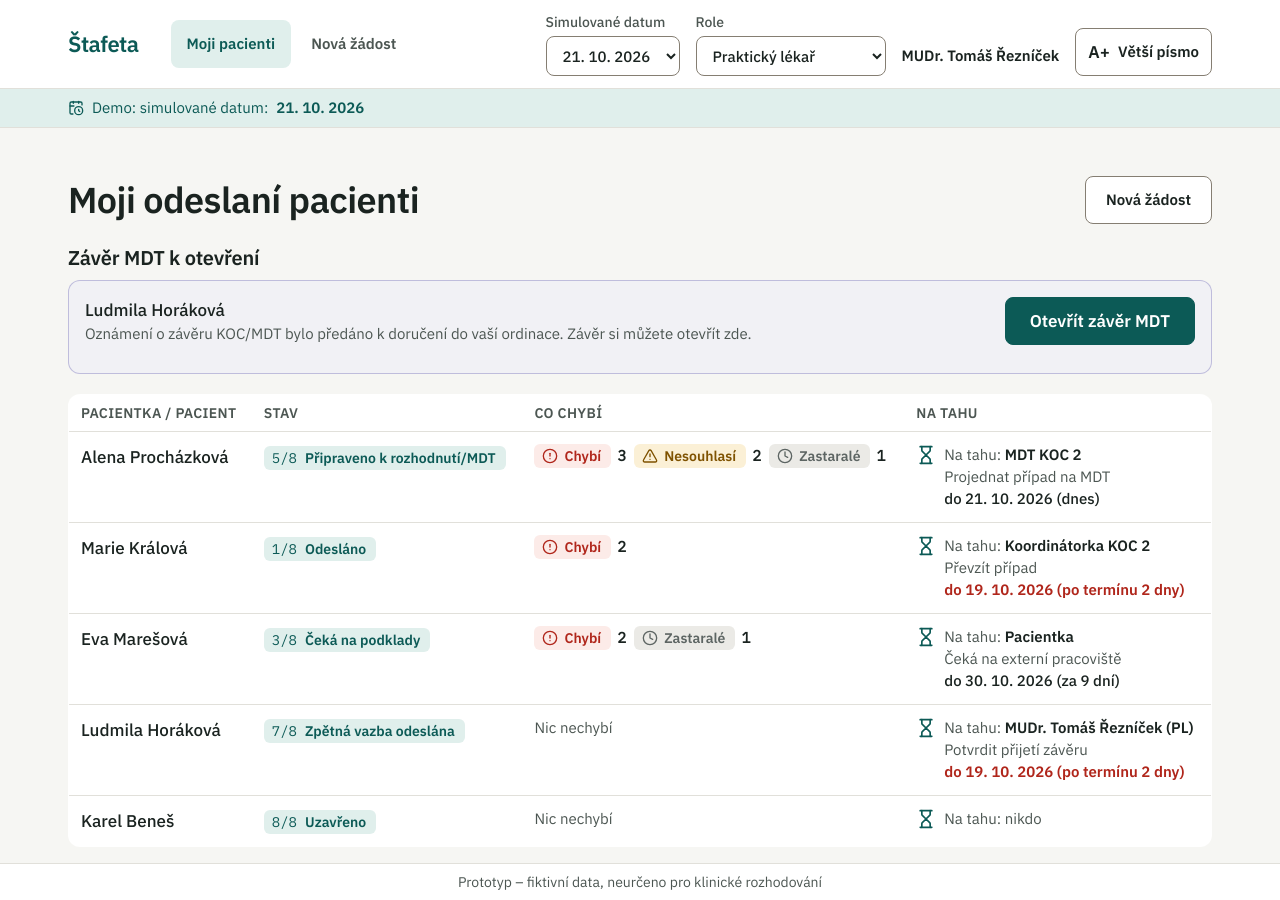
Test: GP portal, demo step 6 › does not record a receipt when the conclusion cannot be read, and offers a retry
Click the button with aria-label "Otevřít závěr MDT: Ludmila Horáková".
click(1100, 321)  # box [1005, 297, 1195, 345]
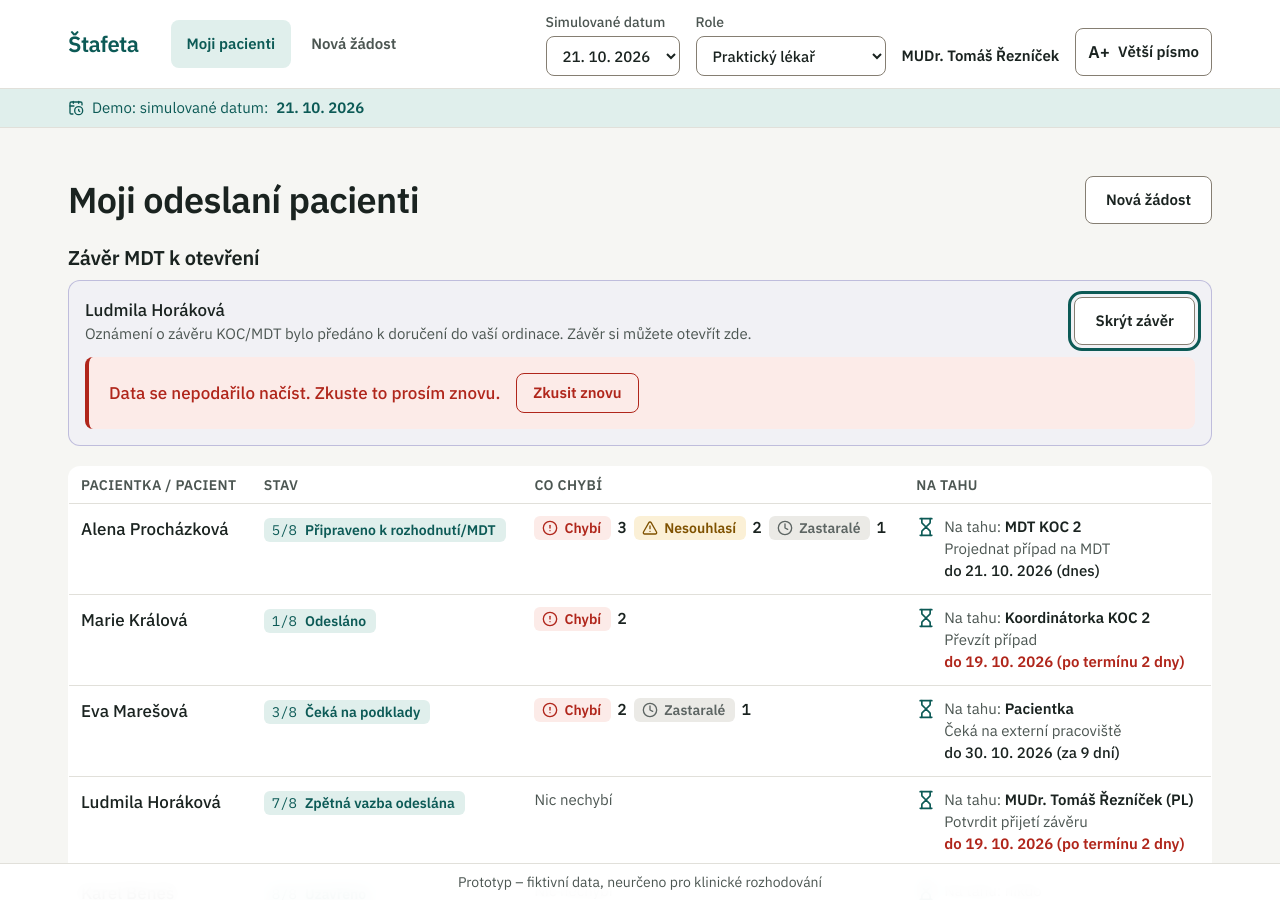
Expected: the message "Data se nepodařilo načíst. Zkuste to prosím znovu. Zkusit znovu" is shown, [85, 357, 1195, 429]
Expected: the button "Zkusit znovu" is shown, [516, 373, 639, 413]
